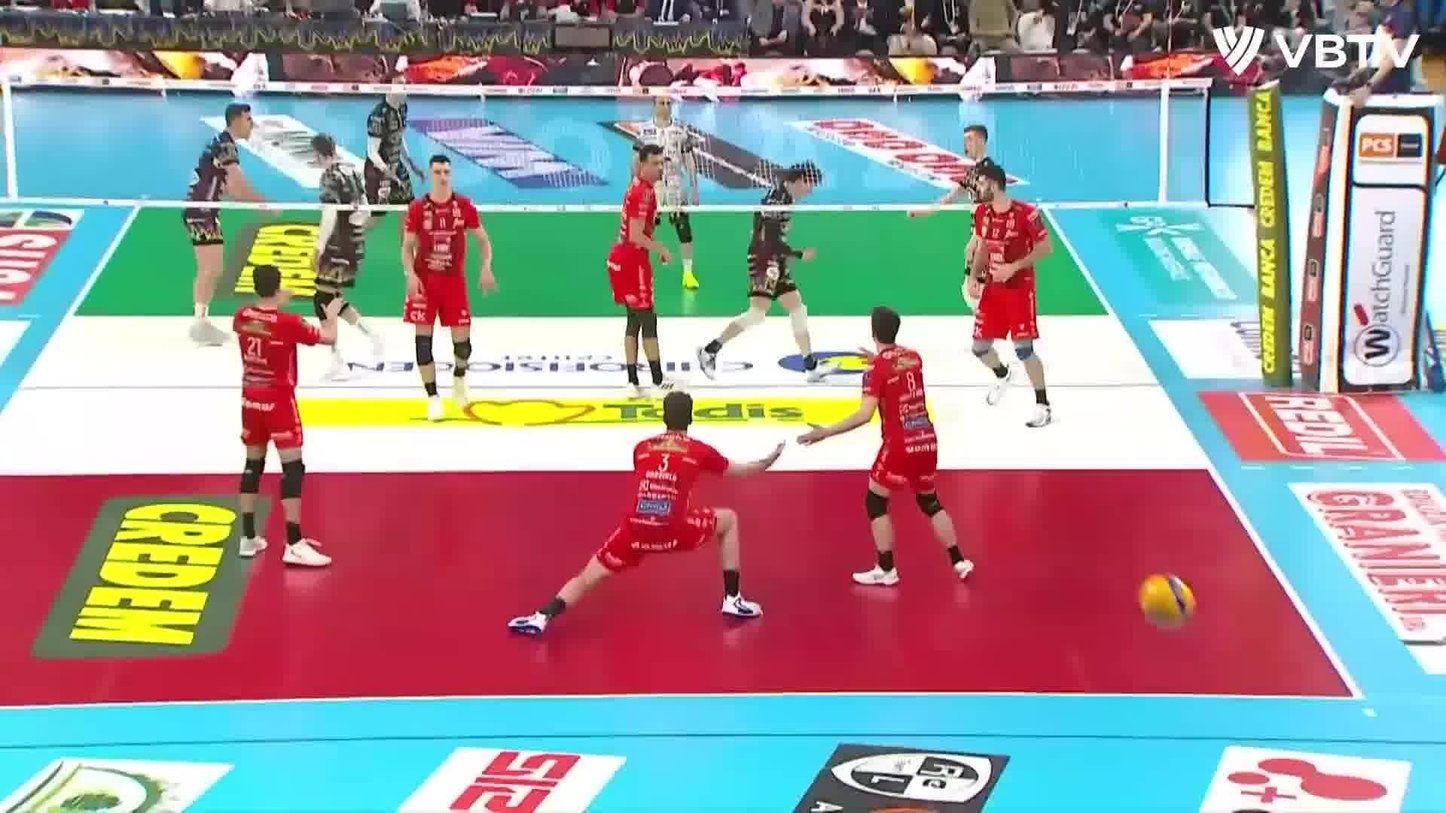balls: (1138, 569, 1196, 633)
